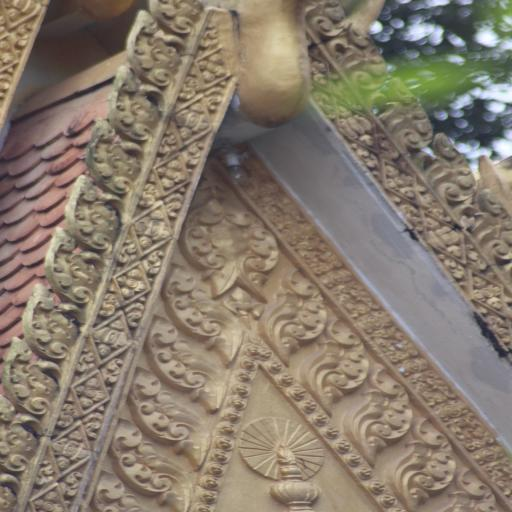lua: (140, 318, 215, 400), (130, 368, 196, 446), (169, 271, 233, 350), (350, 365, 406, 449), (111, 426, 173, 498), (268, 278, 320, 354), (128, 12, 182, 82), (108, 66, 161, 136), (25, 286, 76, 358), (80, 123, 138, 186), (377, 83, 432, 148), (317, 318, 358, 400), (6, 343, 54, 413), (407, 422, 449, 502), (68, 180, 119, 245), (51, 232, 100, 299), (425, 134, 471, 202), (460, 189, 512, 249), (182, 211, 225, 275), (93, 468, 147, 512), (354, 35, 386, 93), (254, 225, 282, 284)
